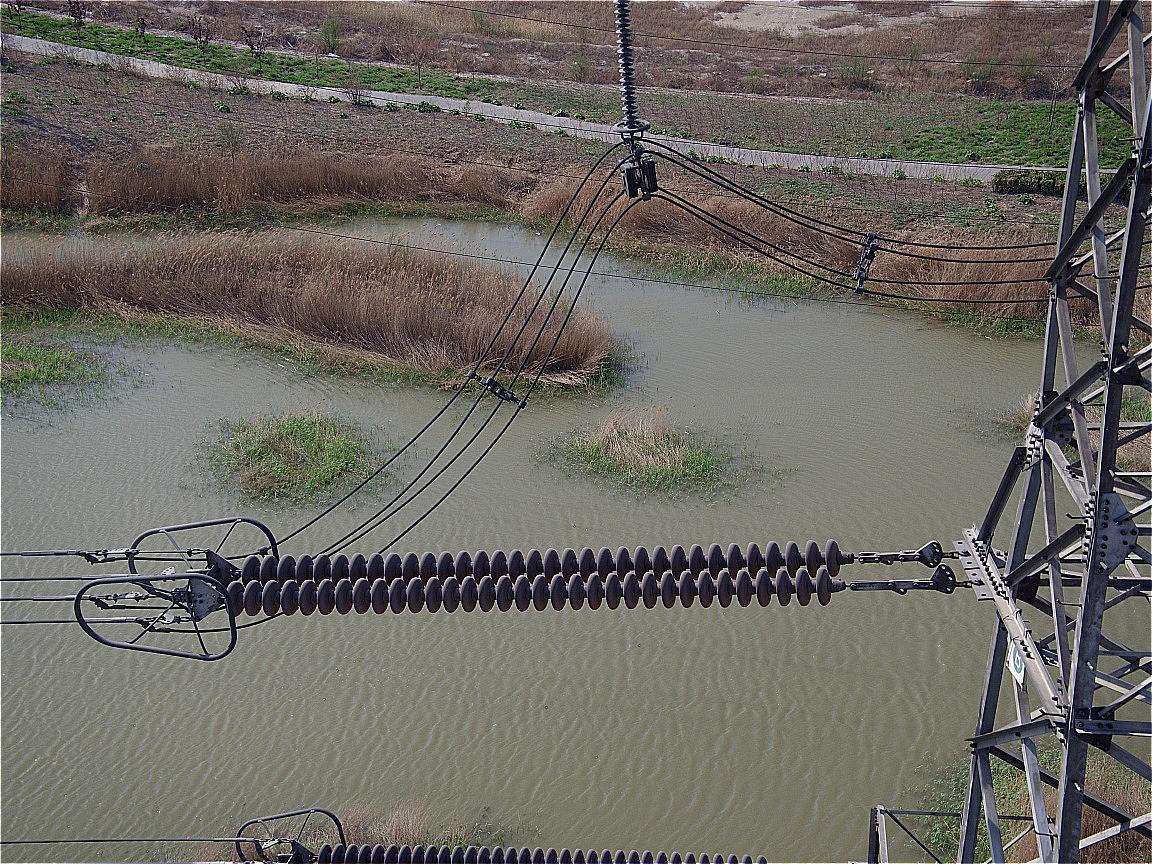insultor1: (220, 535, 842, 620)
insultor2: (608, 1, 642, 124)
